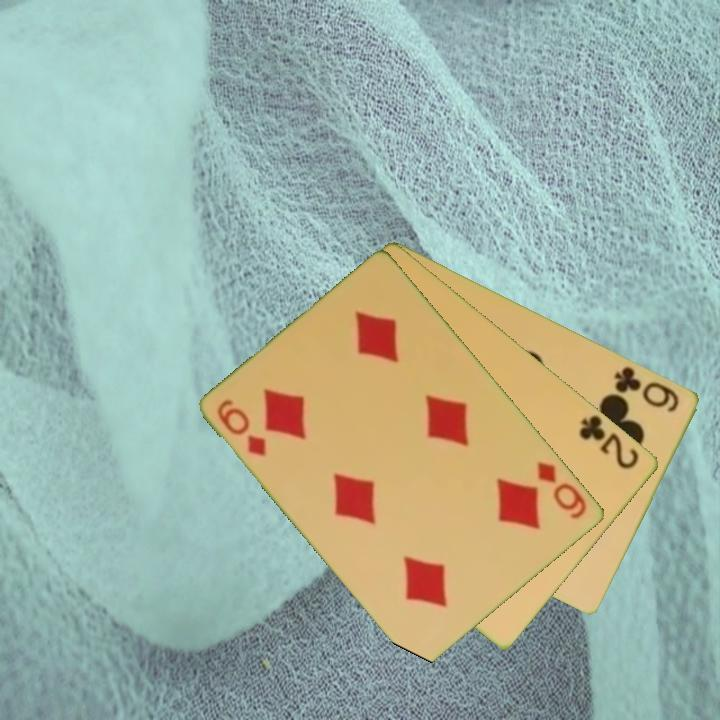2c: (576, 411, 643, 472)
6c: (611, 362, 683, 416)
6d: (534, 458, 591, 522), (214, 395, 270, 460)
